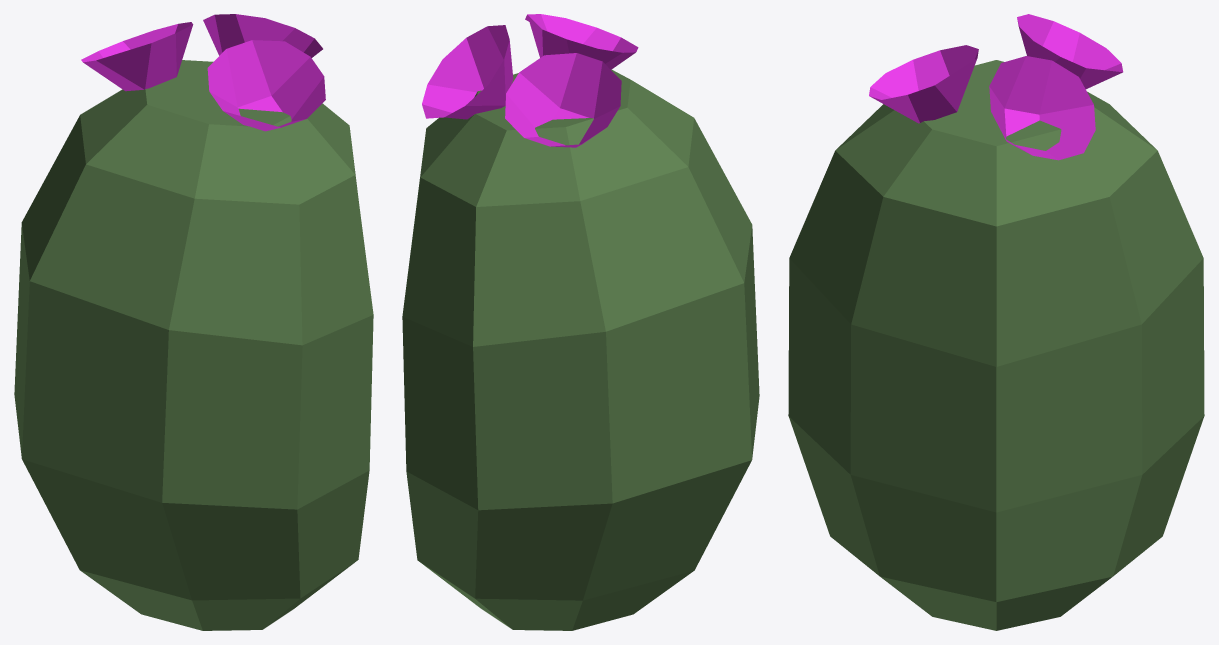
The model's file is cactus2.glb.
3 views of the same model, side by side, from view 1: azimuth 30°, elevation 25°; view 2: azimuth 150°, elevation 25°; view 3: azimuth 270°, elevation 25° (orthographic).
Parts seen in each view (by area): view 1: Cube.002; view 2: Cube.002; view 3: Cube.002.
Boxes of the visible parts, x1,y1,x2,y2 form: Cube.002: (14, 14, 373, 630); Cube.002: (402, 14, 759, 630); Cube.002: (788, 14, 1204, 630).
Size of the model in its own units: 2.68 by 4.2 by 2.85.
